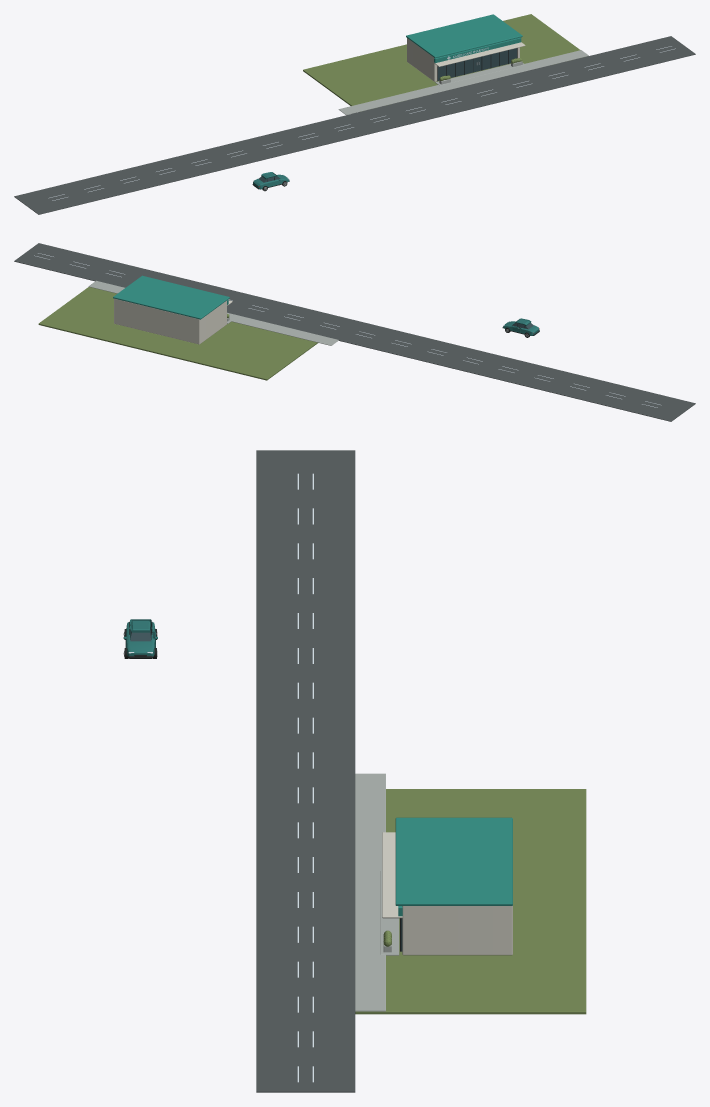
File: pharmacy-travel.glb
3 views of the same model, one above another, from view 1: azimuth 30°, elevation 25°; view 2: azimuth 150°, elevation 25°; view 3: azimuth 270°, elevation 25° (orthographic). The views are drawn at different scales.
Parts seen in each view (by area): view 1: Parking lay-by, Hedge, Roof coping, Entry landing, Canopy, Glazed frontage, Lane marking, Mirror; view 2: Parking lay-by, Hedge, Canopy, Roof coping, Entry landing, Lane marking, Mirror; view 3: Parking lay-by, Hedge, Roof coping, Entry landing, Canopy, Lane marking.
Boxes of the visible parts, x1,y1,x2,y2 form: Parking lay-by: (14, 36, 695, 214); Hedge: (303, 14, 580, 105); Roof coping: (406, 14, 522, 63); Entry landing: (338, 50, 588, 115); Canopy: (407, 38, 525, 81); Glazed frontage: (438, 48, 516, 80); Lane marking: (48, 46, 675, 200); Mirror: (253, 172, 289, 189); Parking lay-by: (14, 243, 695, 421); Hedge: (38, 287, 317, 380); Canopy: (114, 298, 232, 344); Roof coping: (113, 275, 229, 319); Entry landing: (88, 280, 338, 345); Lane marking: (34, 253, 661, 407); Mirror: (503, 318, 539, 335); Parking lay-by: (256, 450, 355, 1092); Hedge: (355, 789, 586, 1014); Roof coping: (395, 817, 512, 916); Entry landing: (355, 773, 399, 1011); Canopy: (382, 832, 512, 955); Lane marking: (297, 473, 313, 1082).
Bounding box in the file's own units: 92 × 3.79 × 28.03.
